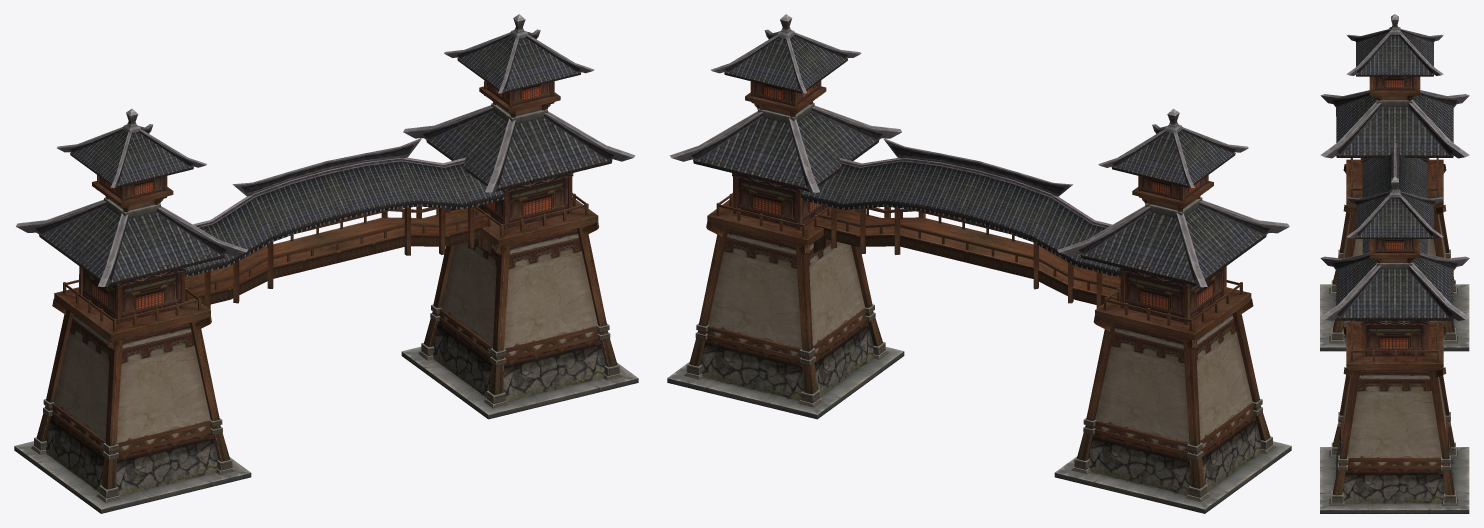
Rendered from s7_3d_city_konglouge.FBX.
3 renders of one model, left to right at view 1: azimuth 30°, elevation 25°; view 2: azimuth 150°, elevation 25°; view 3: azimuth 270°, elevation 25°, orthographic. The views are drawn at different scales.
Visible parts, largest first — view 1: s7_3d_city_konglouge; view 2: s7_3d_city_konglouge; view 3: s7_3d_city_konglouge.
Boxes of the visible parts, box(x1,y1,x2,y2) form: s7_3d_city_konglouge: box(14, 14, 638, 513); s7_3d_city_konglouge: box(667, 14, 1291, 513); s7_3d_city_konglouge: box(1320, 14, 1469, 513).
Bounding box in the file's own units: 382 × 241 × 107.
